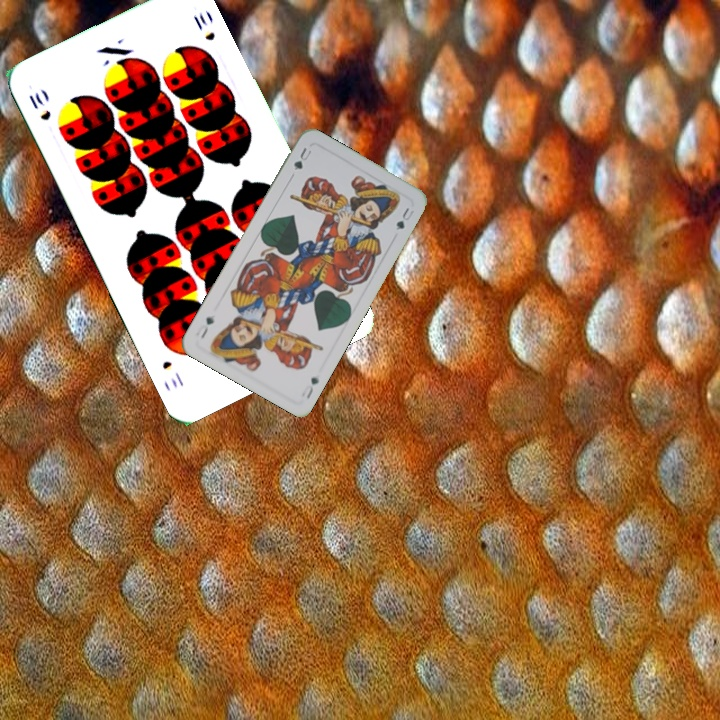GU: (287, 143, 314, 179), (298, 373, 322, 402)
S10: (25, 88, 54, 124)
